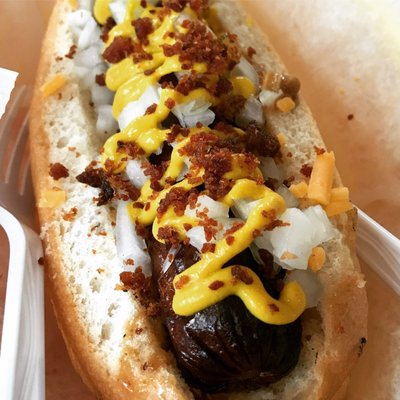sandwich: (26, 0, 391, 397)
